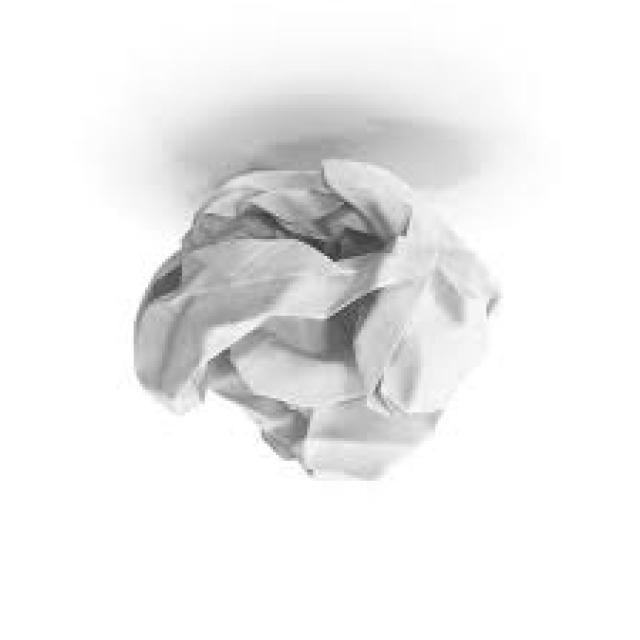crampled paper: (301, 402, 441, 480)
